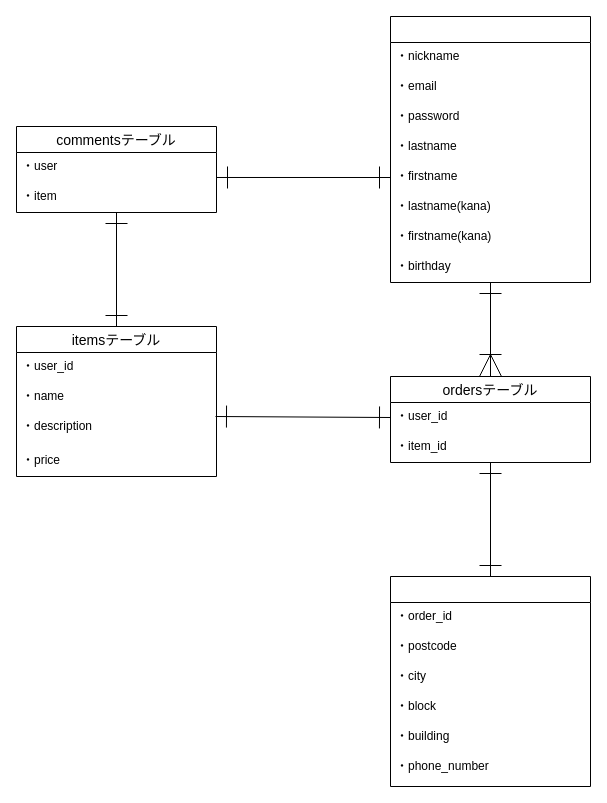
Some shapes in this 607 by 803 pixel diagram are drawn without their labels. The shapes that lost their labels are listed below. From the top down, each one's box as (x1, y1, x2, y2) in pixels, then its label:
(390, 16, 590, 282): usersテーブル
(390, 576, 590, 786): paymentsテーブル
